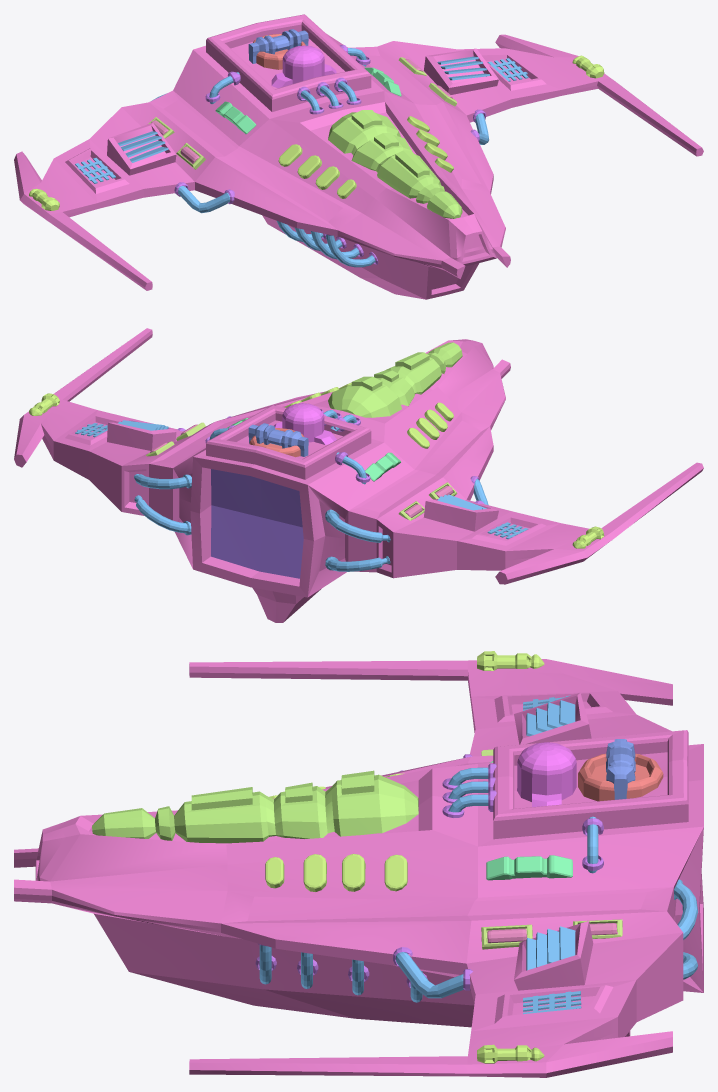
File: Spaceship.fbx
3 views of the same model, one above another, from view 1: azimuth 30°, elevation 25°; view 2: azimuth 150°, elevation 25°; view 3: azimuth 270°, elevation 25° (orthographic). The views are drawn at different scales.
Visible parts, largest first — view 1: Spaceship; view 2: Spaceship; view 3: Spaceship.
Part boxes in pixels (x1,y1,x2,y2): Spaceship: [14, 14, 703, 299]; Spaceship: [14, 328, 703, 622]; Spaceship: [14, 651, 703, 1077].
Bounding box in the file's own units: 9.92 × 3.27 × 7.05.
